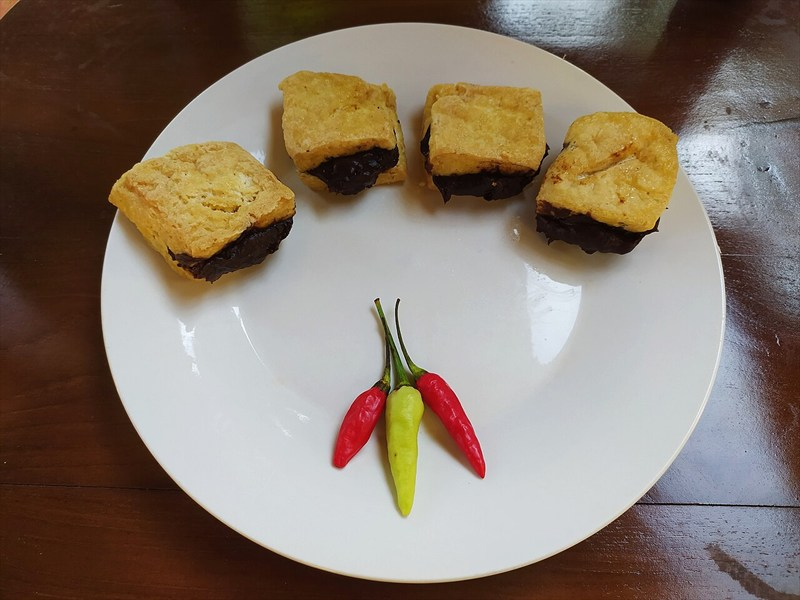Tahu Goreng: (97, 104, 728, 566)
